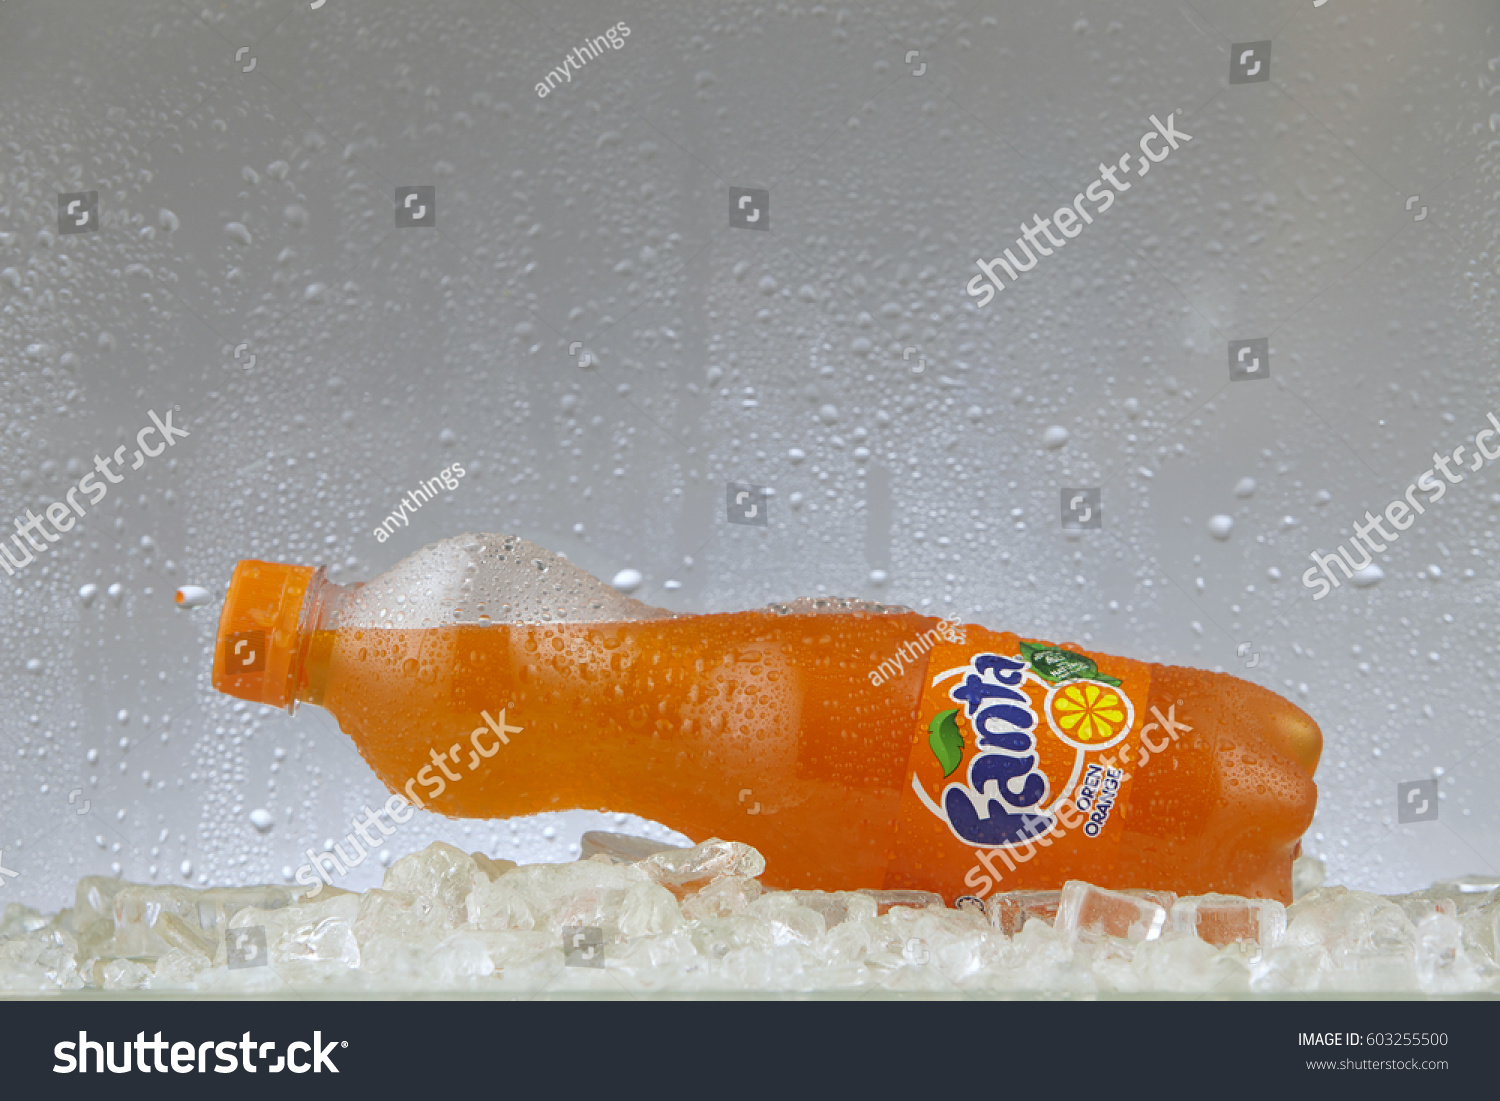fanta: (220, 563, 1337, 908)
